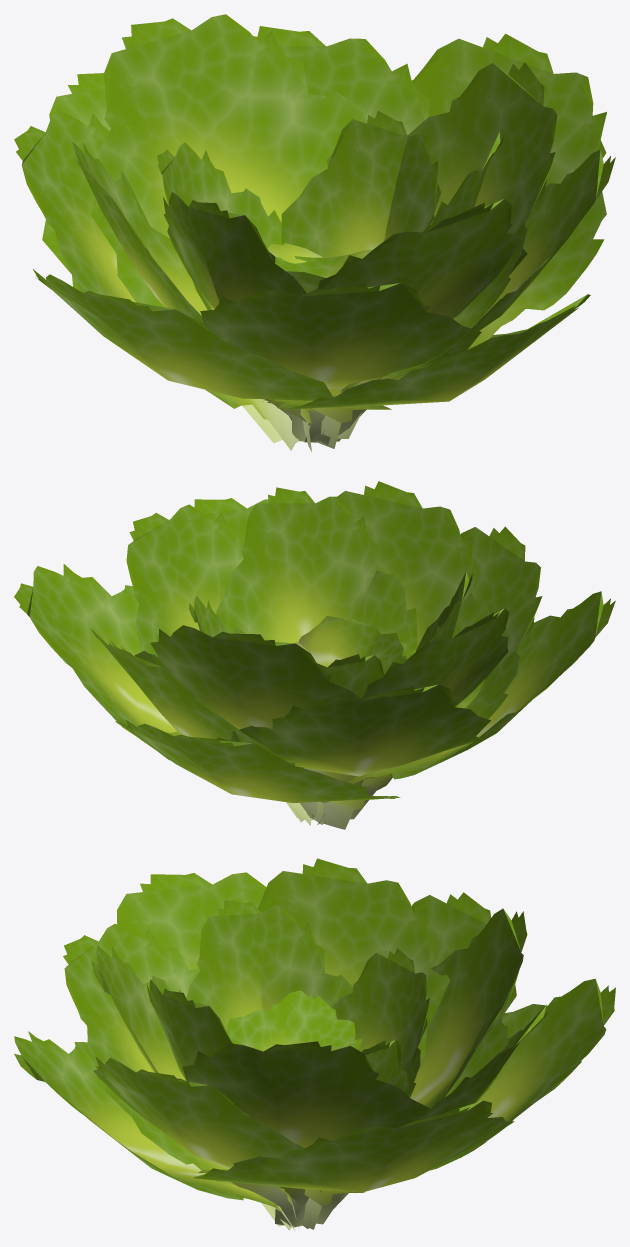
File: Cabbage.fbx
3 views of the same model, one above another, from view 1: azimuth 30°, elevation 25°; view 2: azimuth 150°, elevation 25°; view 3: azimuth 270°, elevation 25° (orthographic). The views are drawn at different scales.
Visible parts, largest first — view 1: Lettuce; view 2: Lettuce; view 3: Lettuce.
Boxes of the visible parts, x1,y1,x2,y2 form: Lettuce: (14, 14, 615, 451); Lettuce: (14, 481, 615, 829); Lettuce: (14, 858, 615, 1230).
Bounding box in the file's own units: 29.48 × 15.6 × 29.39.
